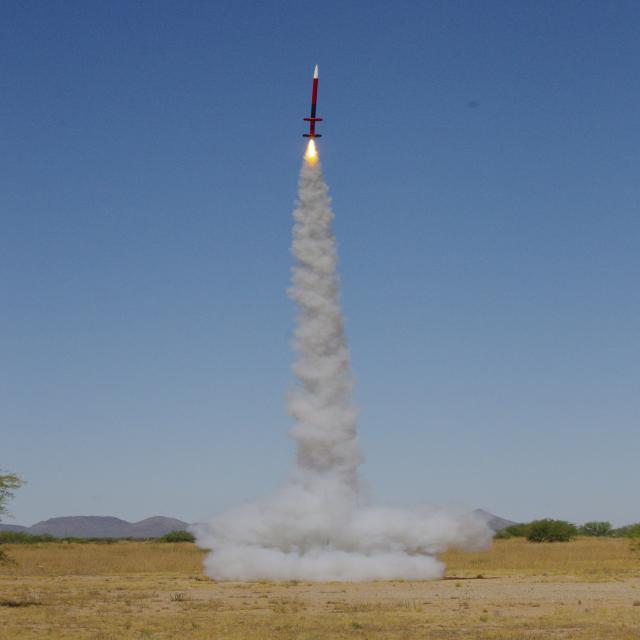Rocket: (302, 63, 323, 138)
